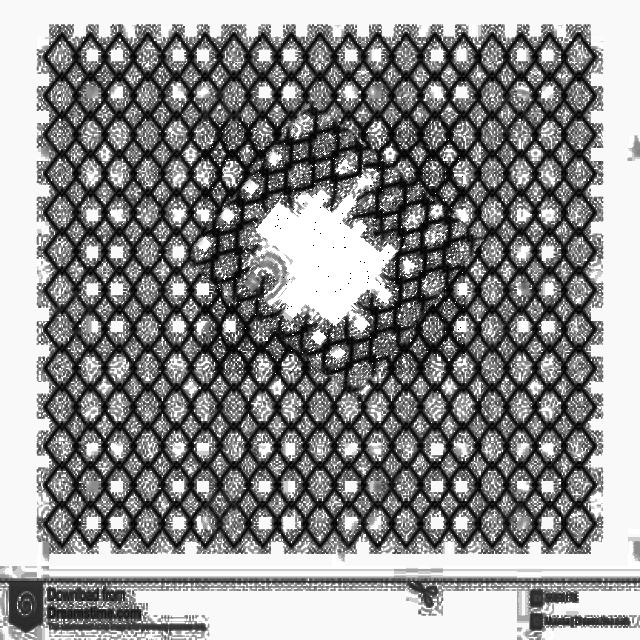anomaly-fence: (202, 122, 465, 375)
